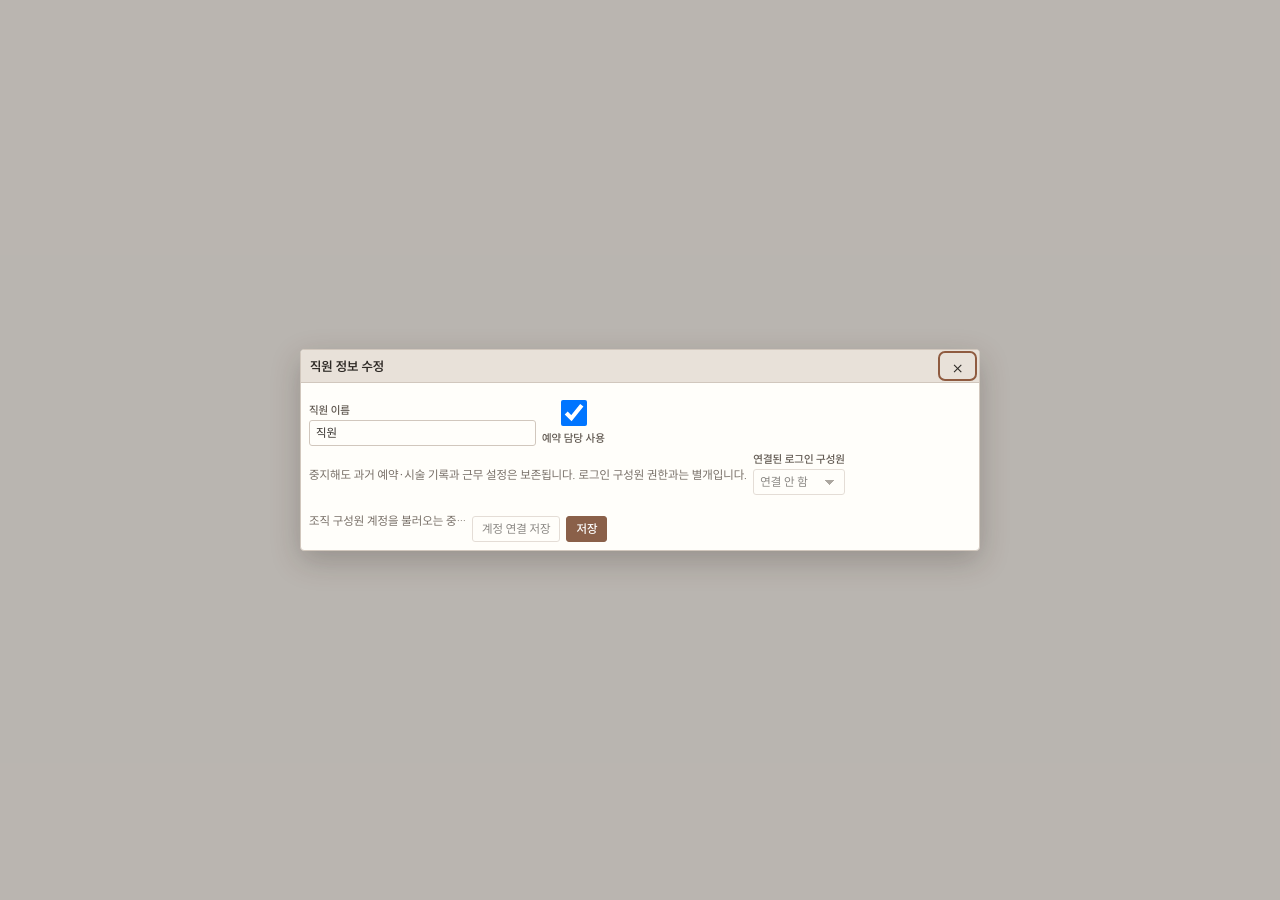
Test case: 중지 충돌은 재배정 안내를 표시하고 입력을 보존한다
The image size is (1280, 900).
Click the checkbox labelled "예약 담당 사용" at (574, 413), box 546,400 -> 602,426
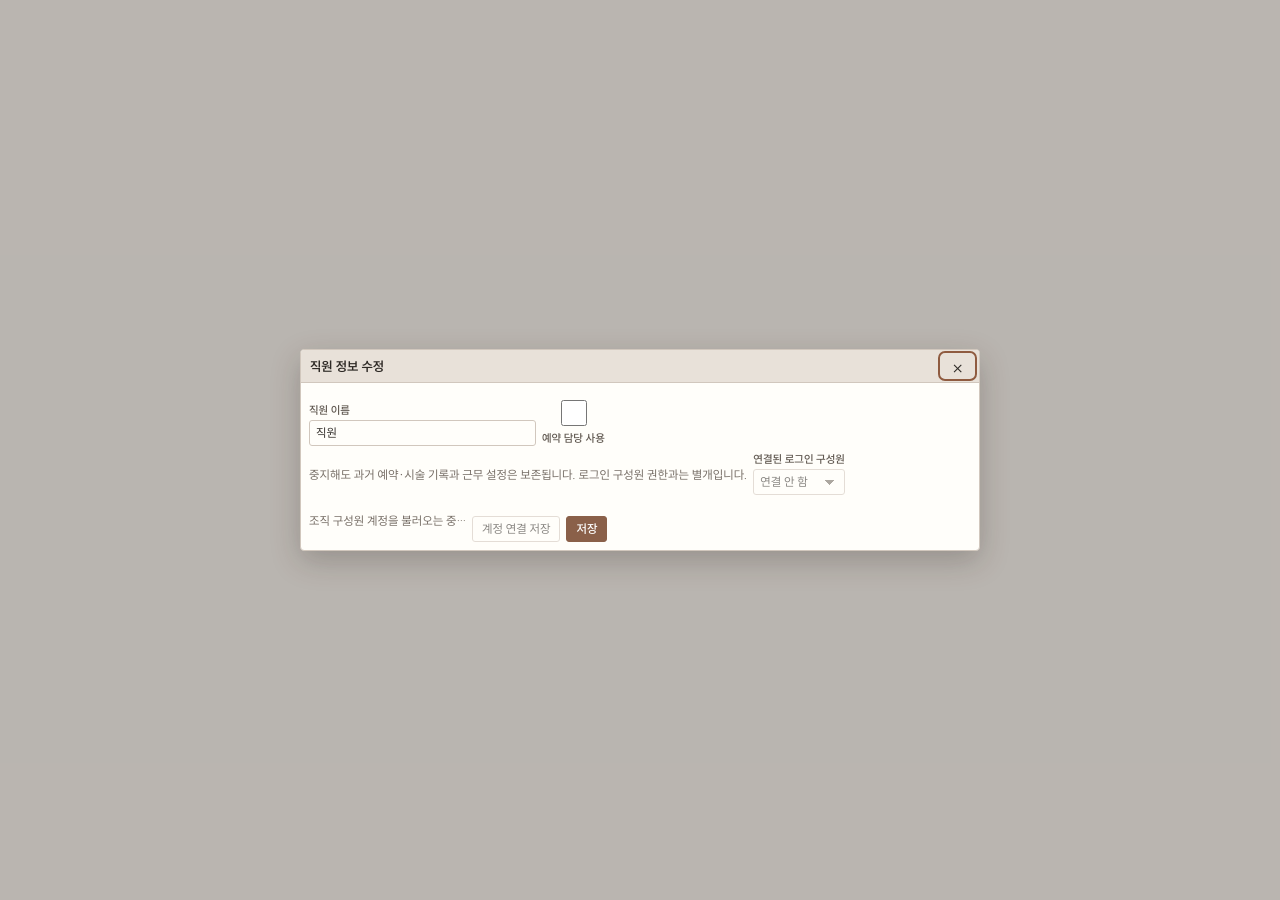
Click the button "저장" at (587, 529), box 566,516 -> 608,542
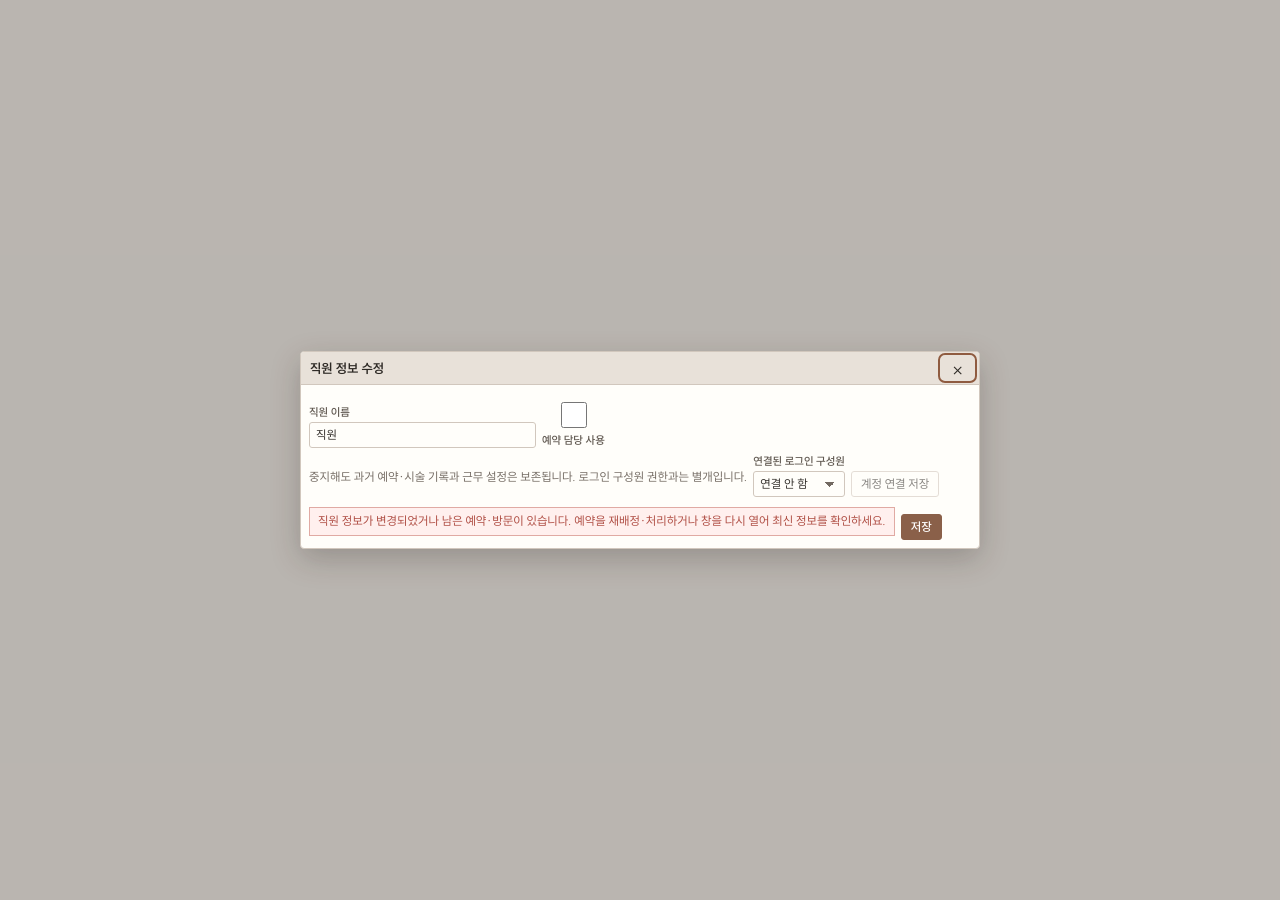
Expected: the checkbox labelled "예약 담당 사용" is not checked, 546,402 -> 602,428
Expected: the text "직원 정보가 변경되었거나 남은 예약·방문이 있습니다. 예약을 재배정·처리하거나 창을 다시 열어 최신 정보를 확인하세요." is shown, 309,508 -> 895,536
